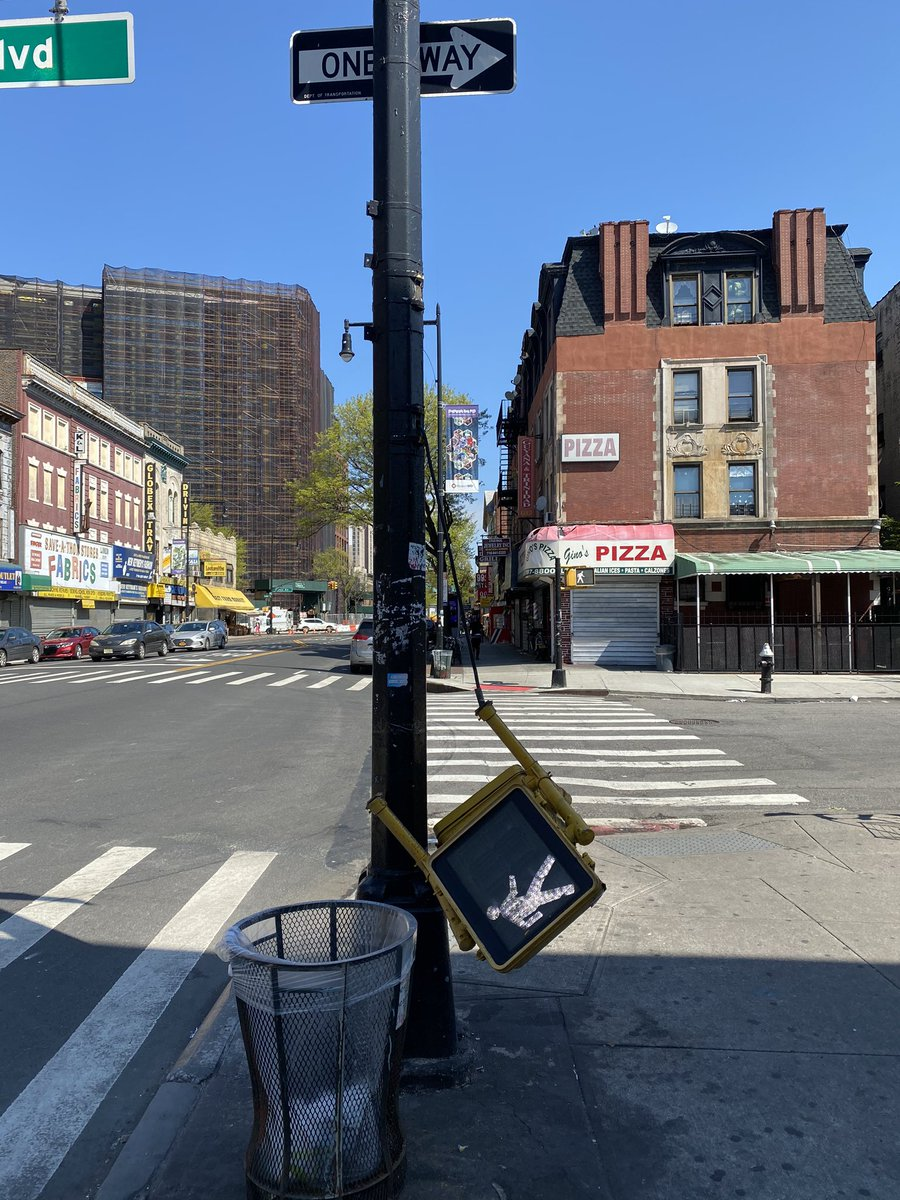building: (516, 199, 900, 662), (1, 255, 349, 631), (1, 368, 148, 683)
crosswalk: (1, 814, 314, 1194), (394, 677, 805, 873), (1, 638, 392, 718)
sidewalk: (299, 803, 900, 1200)
sign: (290, 21, 518, 103), (1, 5, 133, 92)
sky: (7, 1, 900, 266)
street: (1, 659, 900, 851)
trash can: (205, 894, 438, 1200)
